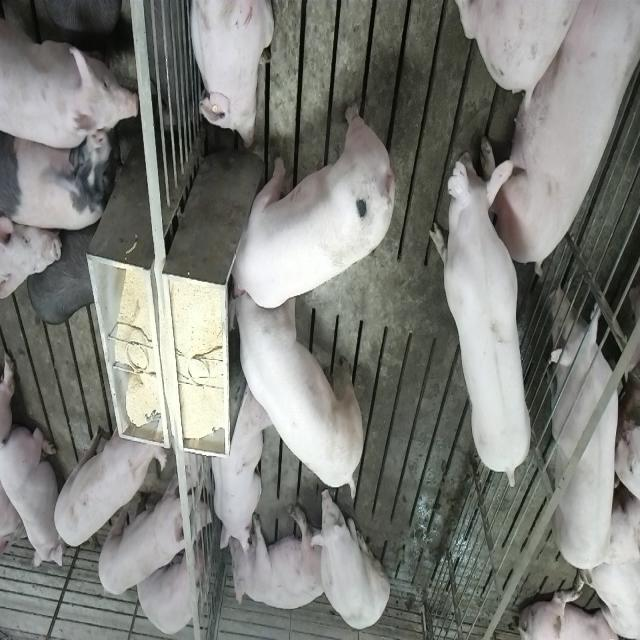Feeding: (221, 102, 391, 310), (231, 280, 366, 502)
Lateral_lying: (480, 3, 637, 278), (228, 504, 326, 612)
Sitting: (310, 484, 390, 632)
Standing: (434, 133, 536, 492), (538, 248, 640, 573), (2, 0, 140, 187), (52, 406, 166, 548), (98, 472, 210, 598), (3, 130, 115, 238), (27, 221, 99, 325)
Sternal_lying: (185, 0, 272, 150), (208, 380, 268, 554), (2, 418, 61, 568)
